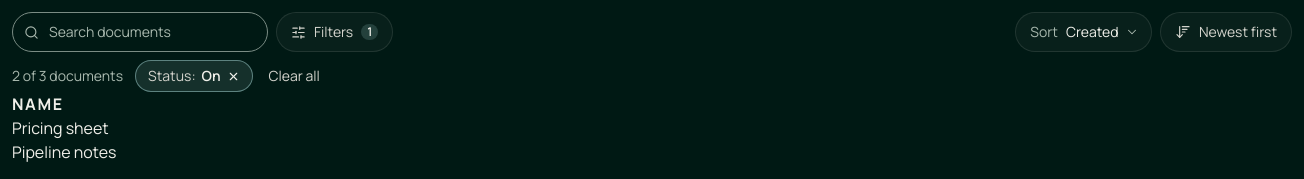
Test: ListControls › shows an active filter as a chip that removes it
Click the button with aria-label "Remove filter Status: On": click(194, 76) [135, 60, 253, 92]
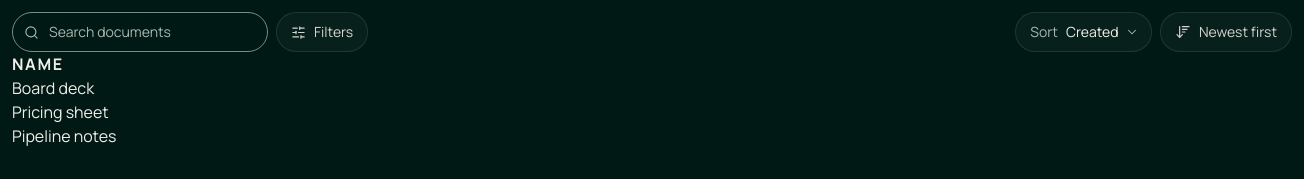
Result: the number of list items is 3 at [12, 77, 94, 99]; [12, 101, 109, 123]; [12, 125, 116, 147]
